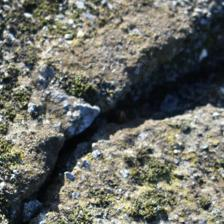Crack: (8, 53, 110, 166)
